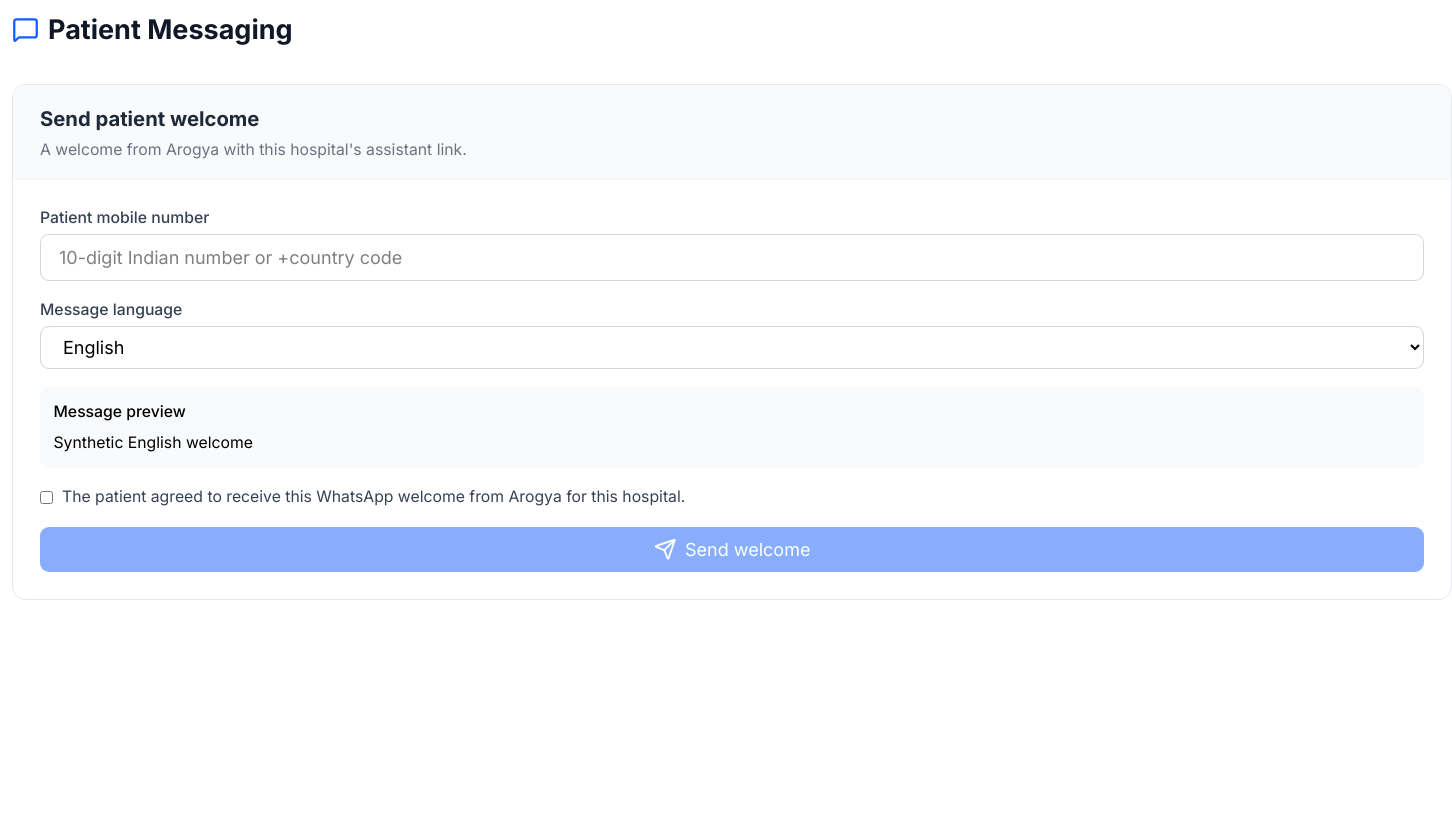
it: Meta patient welcomes › waits for slow automatic and manual status requests before polling again
The image size is (1452, 822).
Expected: the text "Synthetic English welcome" is shown, [54,434,253,452]
Type "9876543210" into the field labelled "Patient mobile number".
click(732, 258); type("9876543210")  # box [40,234,1424,282]
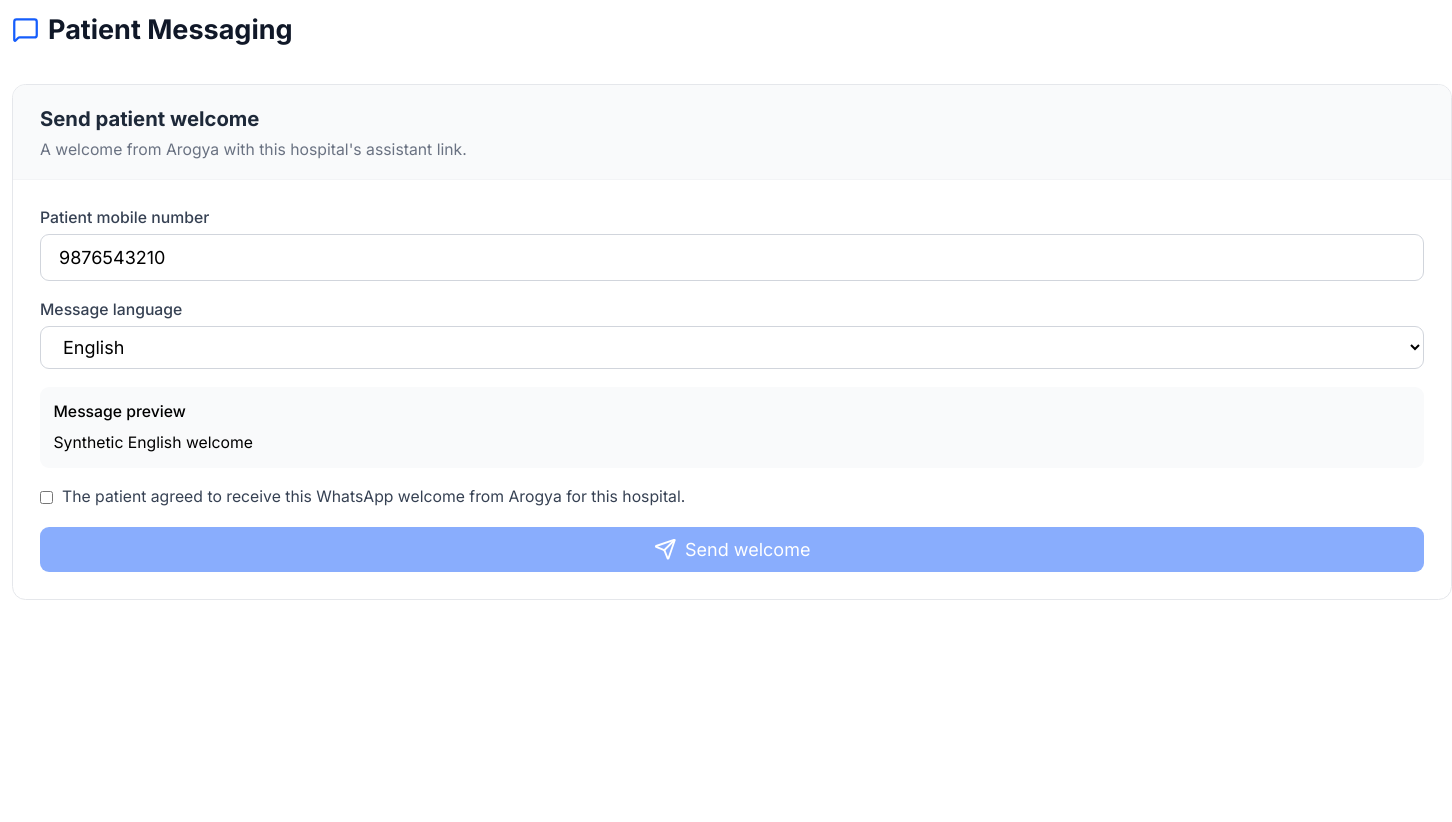
Click the checkbox.
click(46, 498)  # box [40,491,53,504]
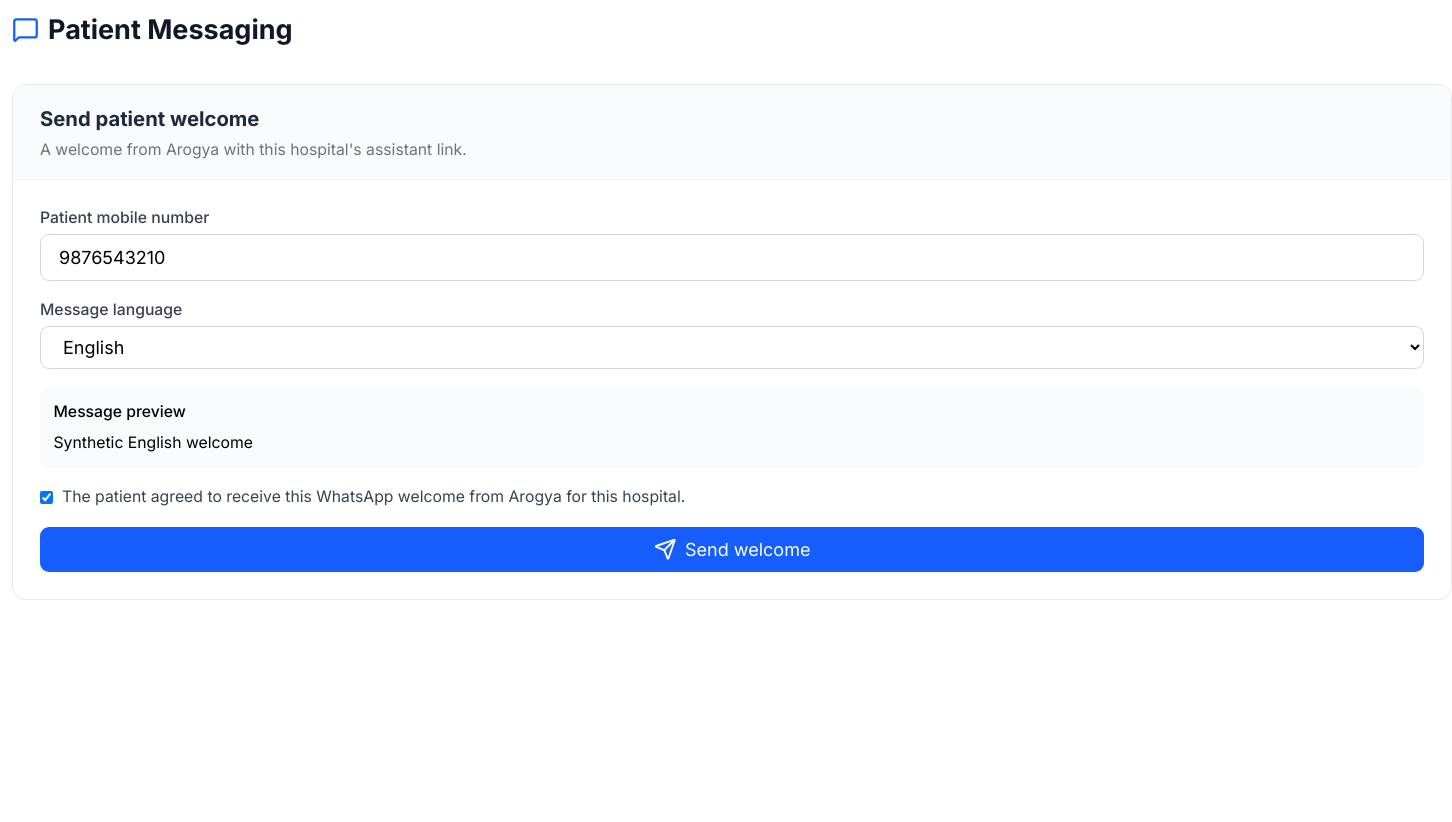
Submit the form labelled "Patient mobile number", box [40,208,1424,572]
Wait 11000 ms
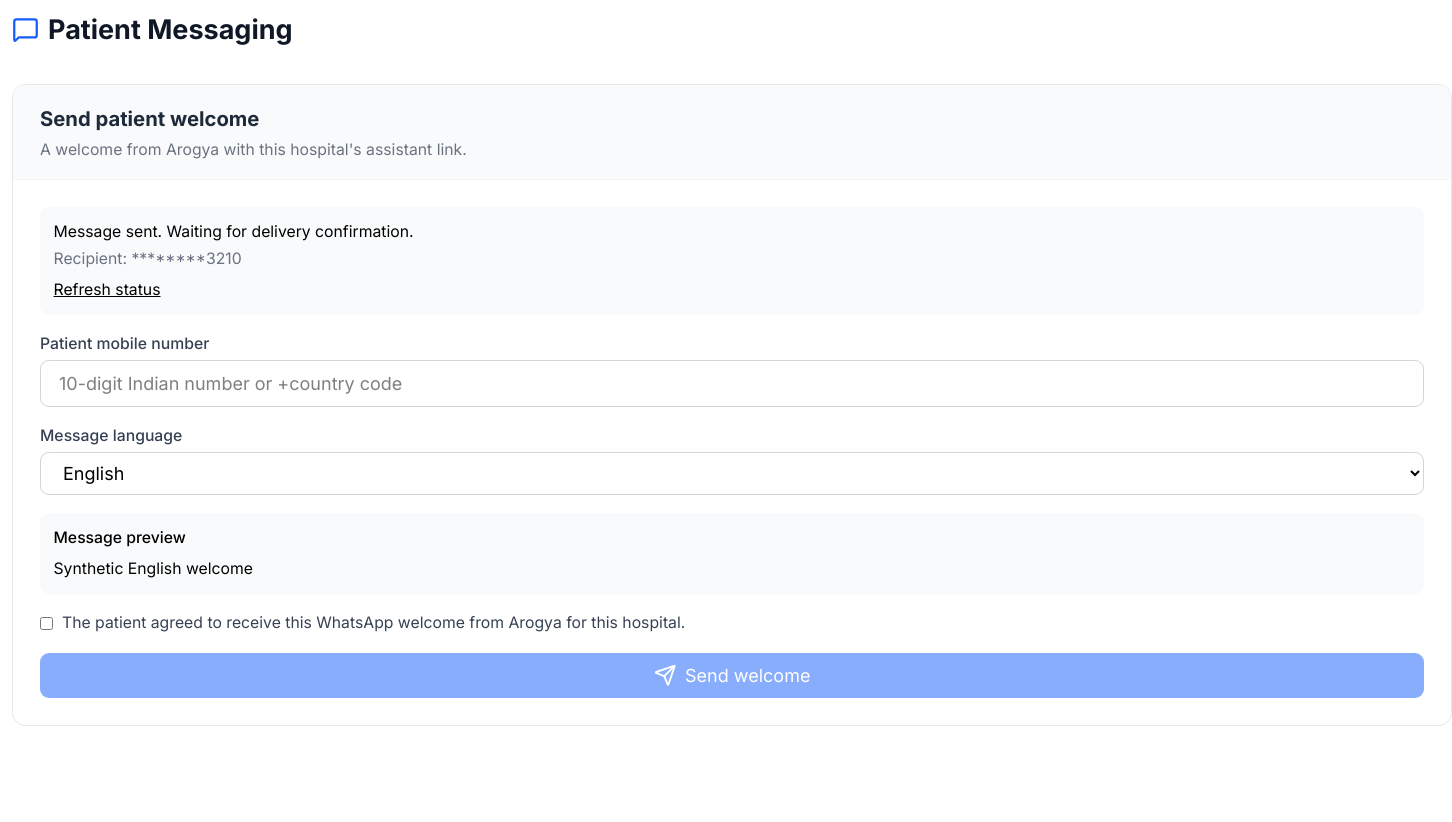
Expected: the text "Message sent. Waiting for delivery confirmation." is shown, [54,222,414,241]
Click the button "Refresh status".
click(107, 291)  # box [54,280,160,302]
Wait 6000 ms
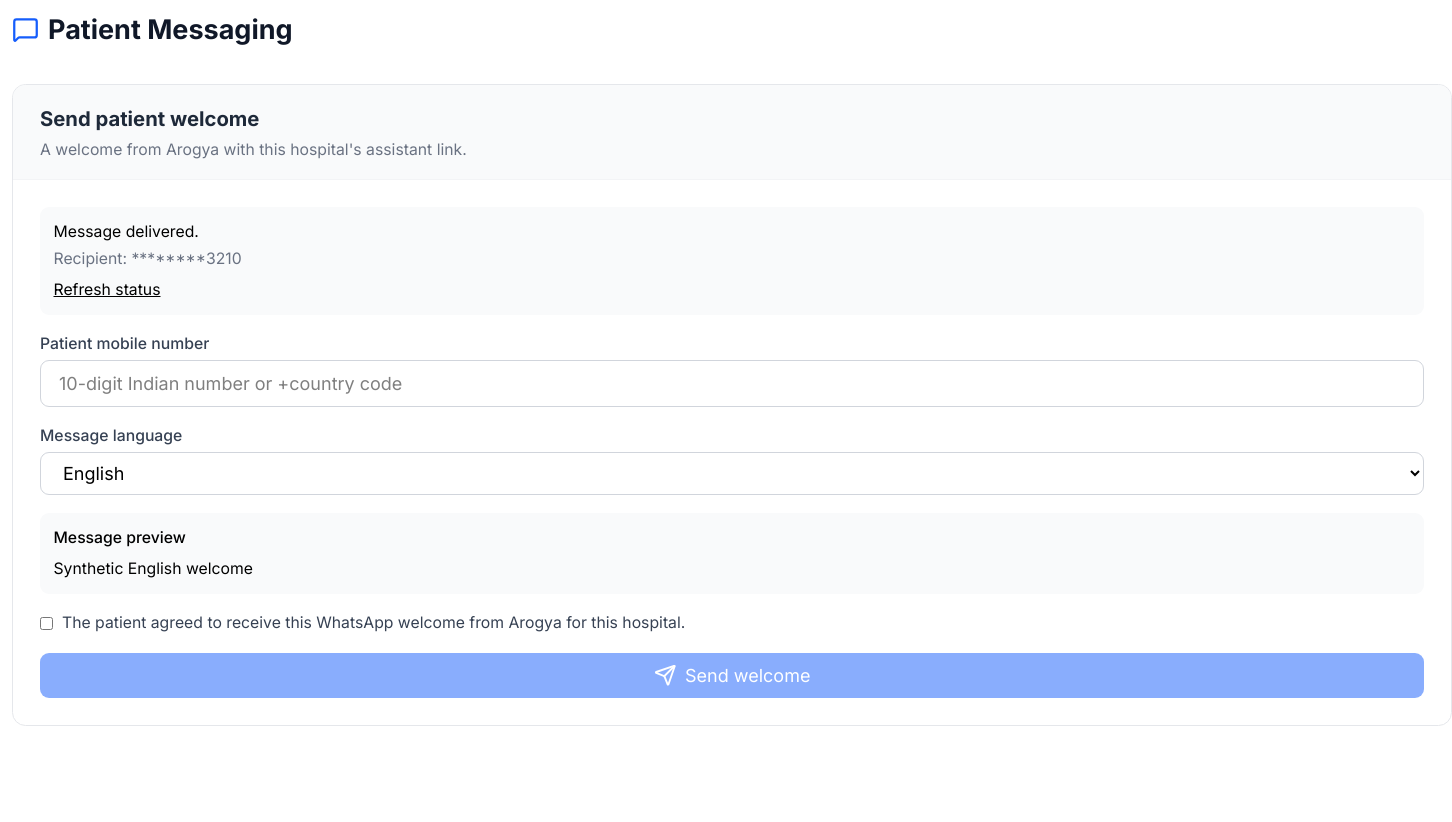
Expected: the text "Message delivered." is shown, [54,222,199,241]
